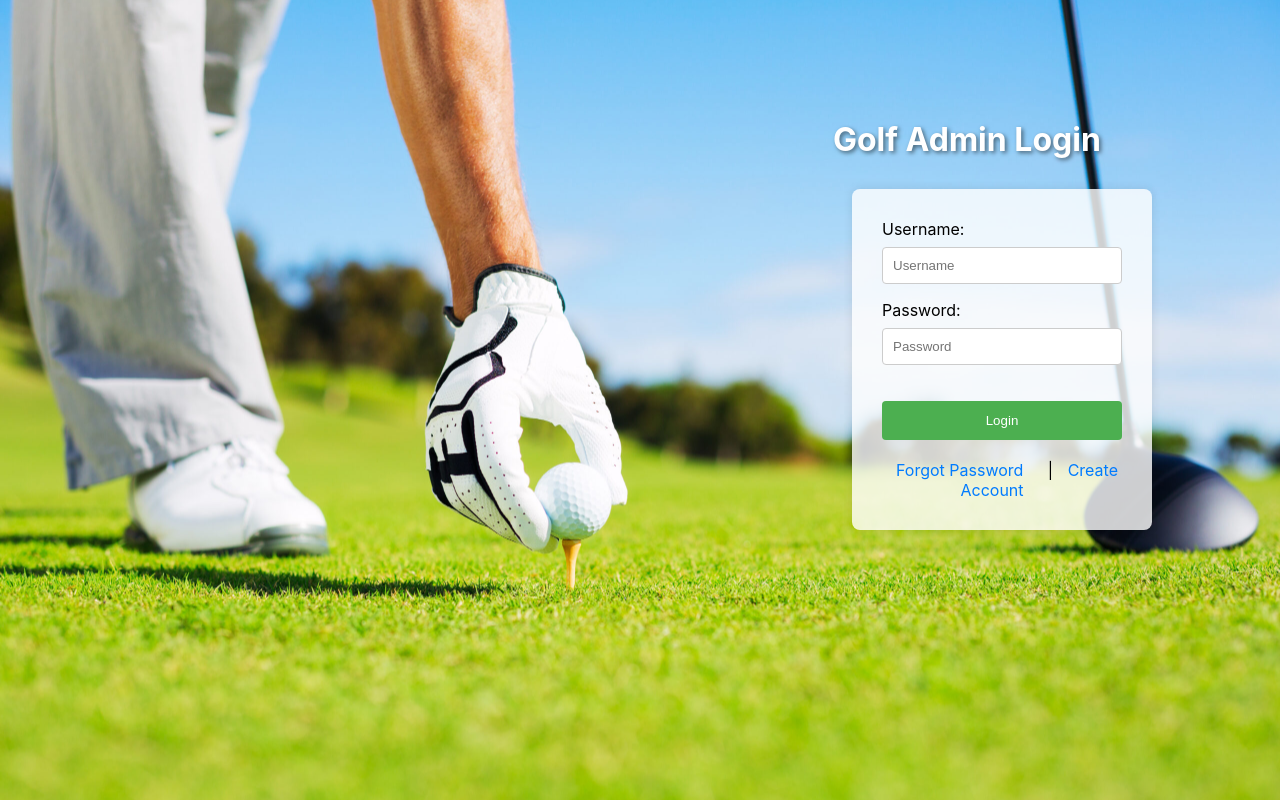
Test: Login Component › should display error message if username or password is missing
The width and height of the screenshot is (1280, 800).
Click the button "Login" at point(1002, 420), box [882, 401, 1122, 440]
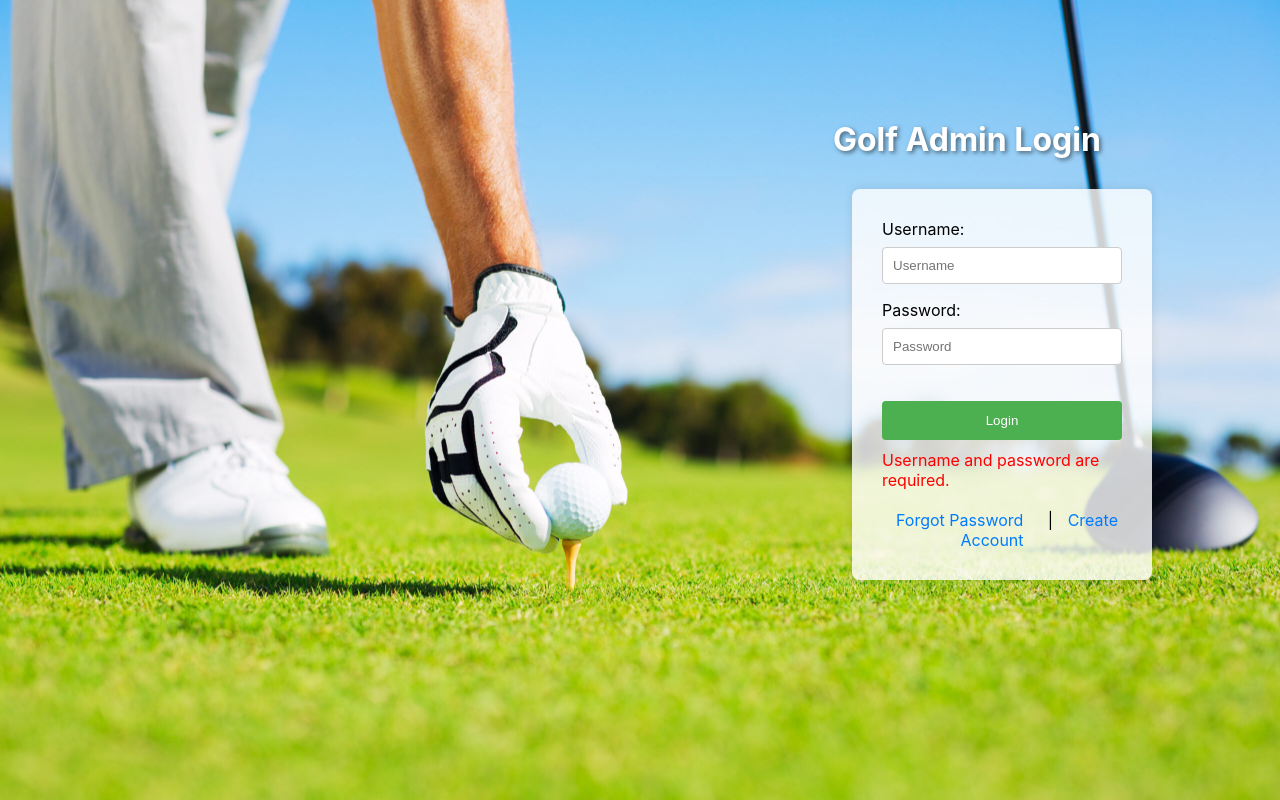
Result: the text "Username and password are required." is shown at [882, 450, 1122, 490]
